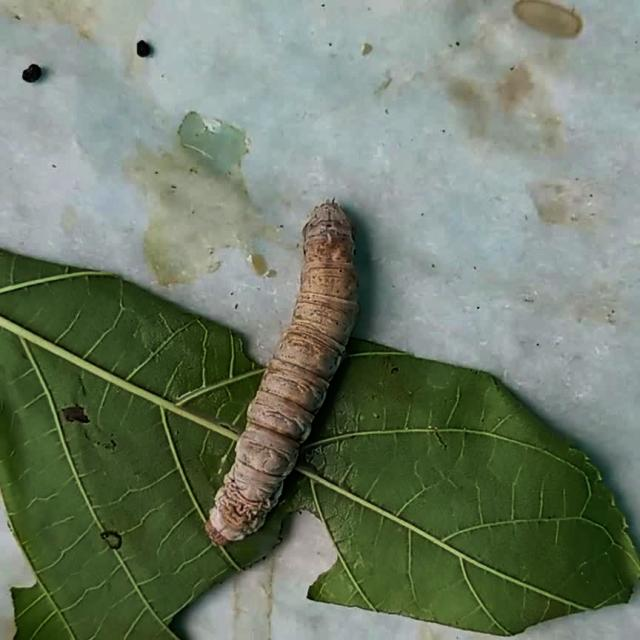Grasserie: (184, 171, 417, 567)
